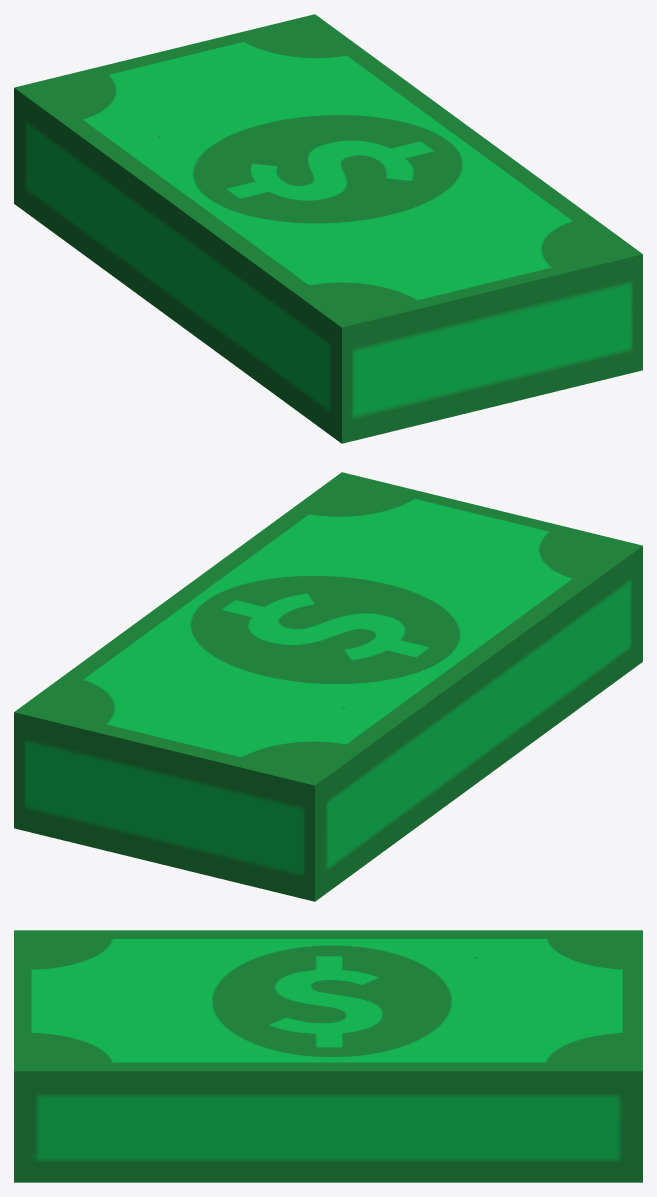
File: dollar.fbx
3 views of the same model, one above another, from view 1: azimuth 30°, elevation 25°; view 2: azimuth 150°, elevation 25°; view 3: azimuth 270°, elevation 25° (orthographic). The views are drawn at different scales.
Parts seen in each view (by area): view 1: dollar; view 2: dollar; view 3: dollar.
Part boxes in pixels (bbox=[...]): dollar: bbox=[14, 14, 642, 443]; dollar: bbox=[14, 472, 642, 901]; dollar: bbox=[14, 930, 642, 1182].
Bounding box in the file's own units: 32.87 × 12.12 × 62.02.
1 material, 1 textured.
